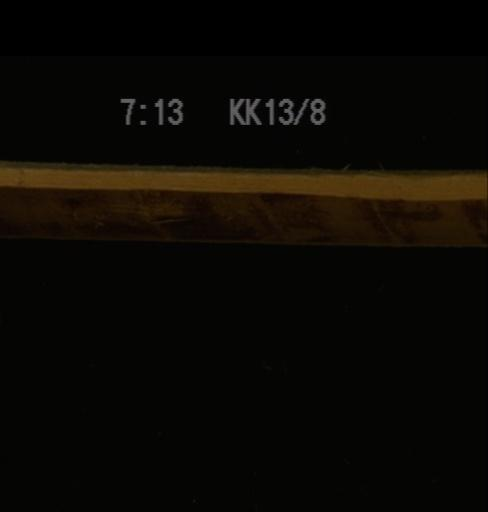wave: (0, 179, 486, 243)
